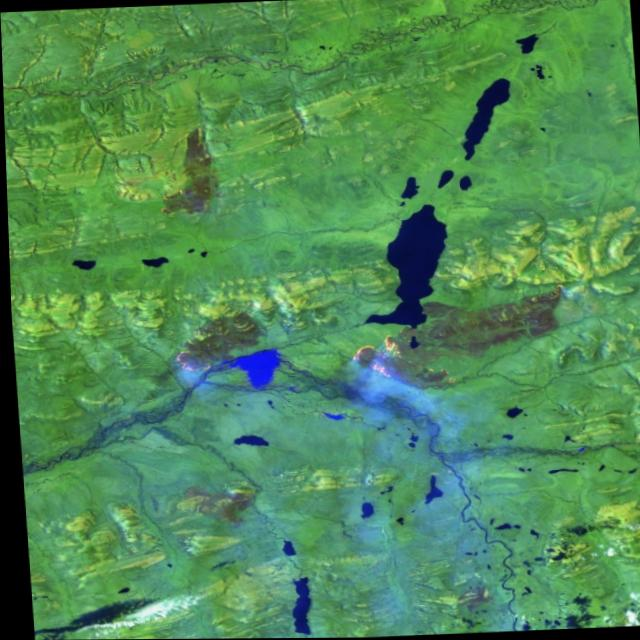fire: (329, 326, 471, 396), (158, 345, 218, 385)
